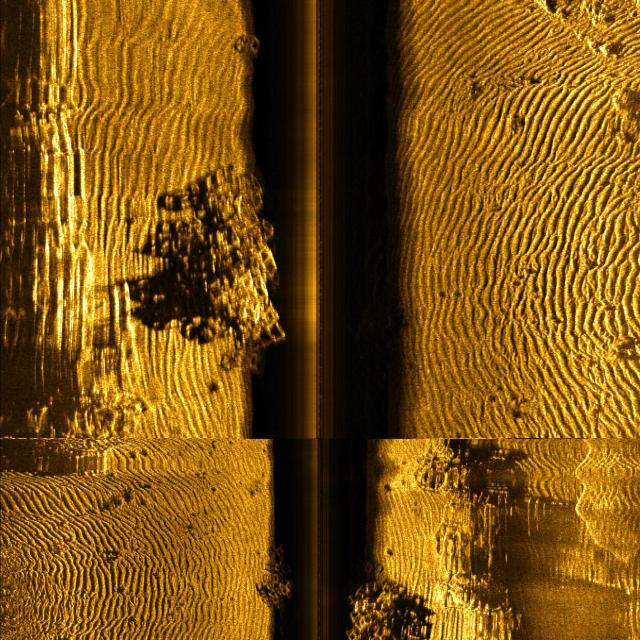artificial reef: (179, 164, 295, 396), (346, 566, 398, 640), (257, 544, 299, 620), (234, 27, 262, 66)
